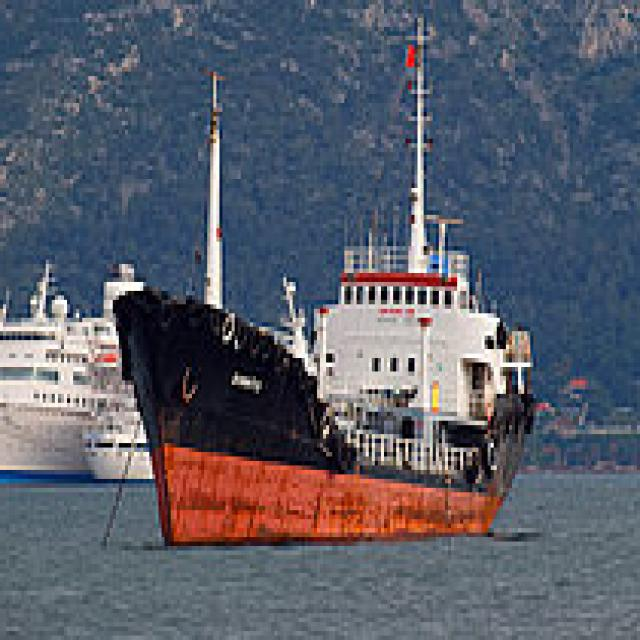Tanker: (113, 18, 542, 550)
